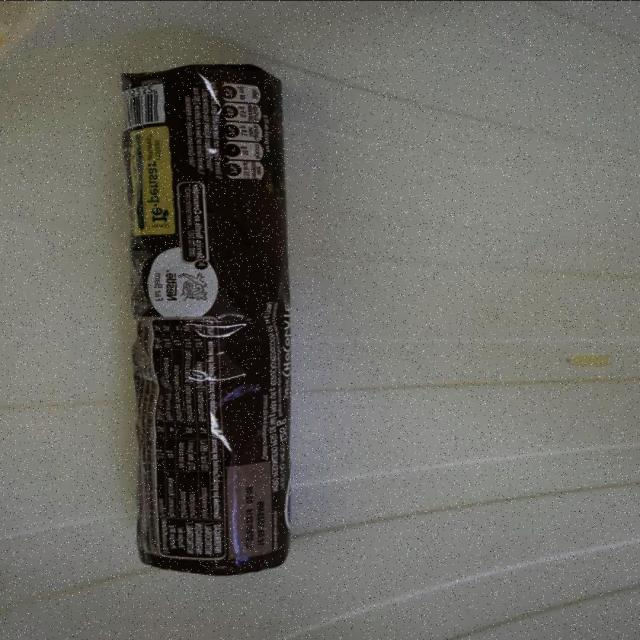Cookies: (120, 62, 294, 576)
